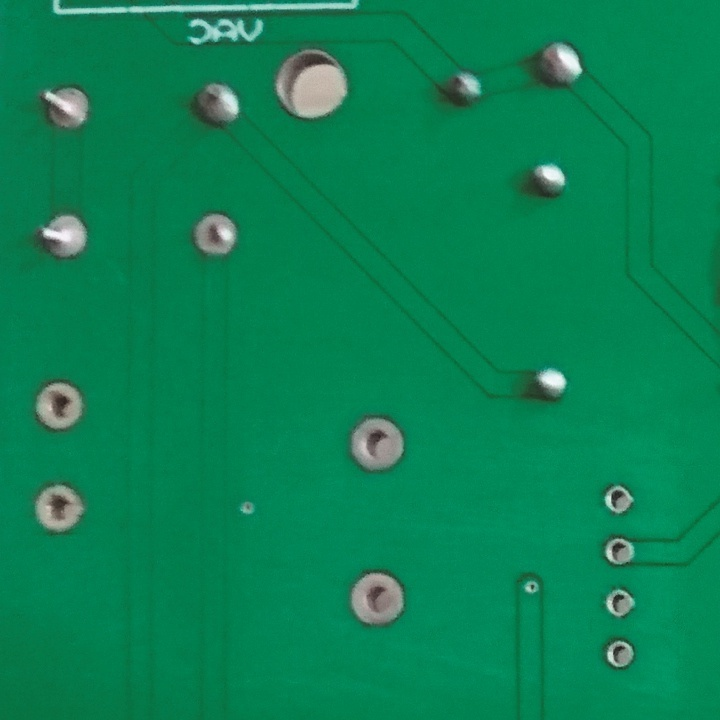F: (346, 568, 408, 632), (348, 413, 407, 475), (30, 482, 91, 534), (36, 82, 94, 135), (36, 209, 93, 262), (32, 378, 86, 432), (186, 210, 241, 259), (604, 586, 639, 622), (601, 484, 635, 518), (604, 638, 640, 670), (601, 536, 635, 567)
